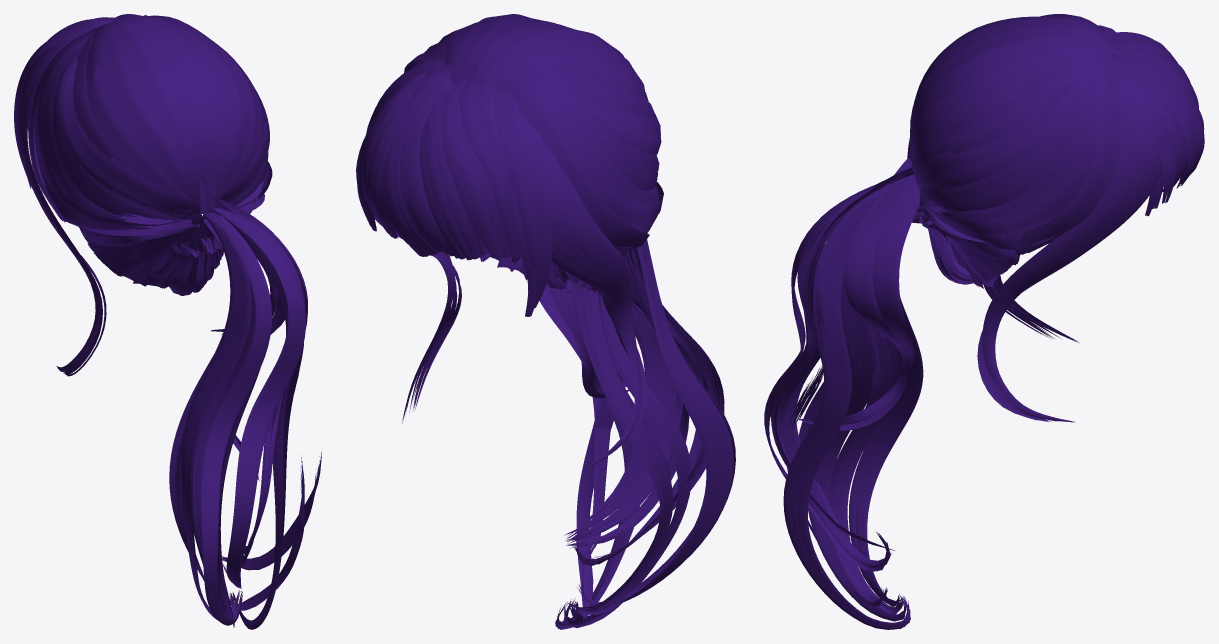
File: baroka.fbx
3 views of the same model, side by side, from view 1: azimuth 30°, elevation 25°; view 2: azimuth 150°, elevation 25°; view 3: azimuth 270°, elevation 25° (orthographic). The views are drawn at different scales.
Visible parts, largest first — view 1: BackHair_grid_mesh, PonyTail_grid_mesh, FrontHair.001_grid_mesh, FoldHair_grid_mesh, FrontHair_grid_mesh; view 2: PonyTail_grid_mesh, FrontHair_grid_mesh, BackHair_grid_mesh, FrontHair.001_grid_mesh, FoldHair_grid_mesh; view 3: PonyTail_grid_mesh, BackHair_grid_mesh, FrontHair.001_grid_mesh, FrontHair_grid_mesh, FoldHair_grid_mesh.
Boxes of the visible parts, x1=… form: BackHair_grid_mesh: x1=28, y1=15, x2=272, y2=286; PonyTail_grid_mesh: x1=169, y1=196, x2=321, y2=629; FrontHair.001_grid_mesh: x1=15, y1=15, x2=224, y2=376; FoldHair_grid_mesh: x1=146, y1=234, x2=222, y2=295; FrontHair_grid_mesh: x1=14, y1=14, x2=146, y2=188; PonyTail_grid_mesh: x1=539, y1=239, x2=735, y2=629; FrontHair_grid_mesh: x1=357, y1=72, x2=551, y2=316; BackHair_grid_mesh: x1=366, y1=14, x2=663, y2=293; FrontHair.001_grid_mesh: x1=356, y1=68, x2=647, y2=470; FoldHair_grid_mesh: x1=508, y1=256, x2=579, y2=289; PonyTail_grid_mesh: x1=764, y1=158, x2=923, y2=629; BackHair_grid_mesh: x1=907, y1=14, x2=1122, y2=288; FrontHair.001_grid_mesh: x1=977, y1=58, x2=1166, y2=422; FrontHair_grid_mesh: x1=1110, y1=32, x2=1204, y2=216; FoldHair_grid_mesh: x1=912, y1=204, x2=973, y2=284.
Size of the model in its own units: 426 by 1083 by 730.
